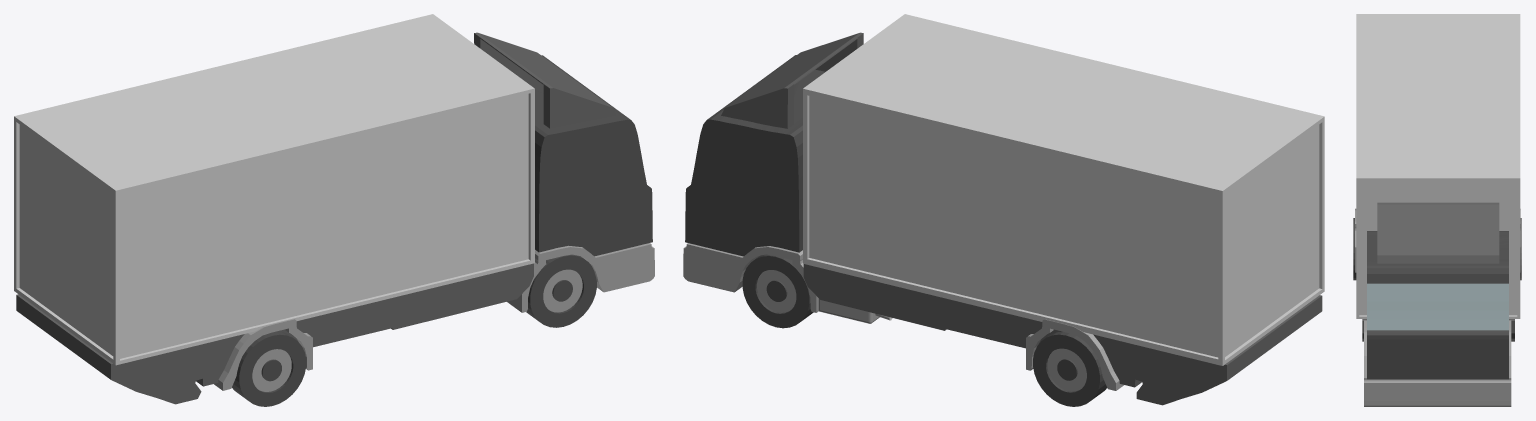
Rendered from LKW.fbx.
3 views of the same model, side by side, from view 1: azimuth 30°, elevation 25°; view 2: azimuth 150°, elevation 25°; view 3: azimuth 270°, elevation 25° (orthographic). The views are drawn at different scales.
Visible parts, largest first — view 1: pCube20; view 2: pCube20; view 3: pCube20.
Boxes of the visible parts, left/top/right/bottom form: pCube20: left=14, top=14, right=654, bottom=406; pCube20: left=683, top=14, right=1324, bottom=406; pCube20: left=1353, top=14, right=1521, bottom=406.
Size of the model in its own units: 15.42 by 6.81 by 5.12.
